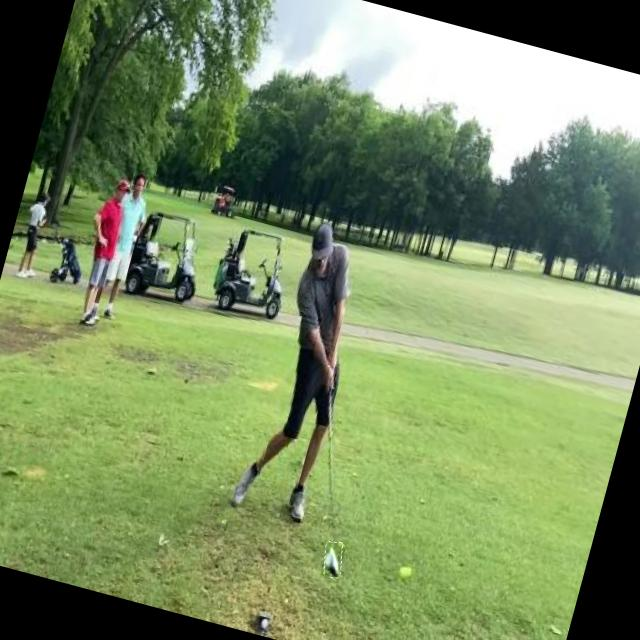club head: (319, 539, 346, 579)
